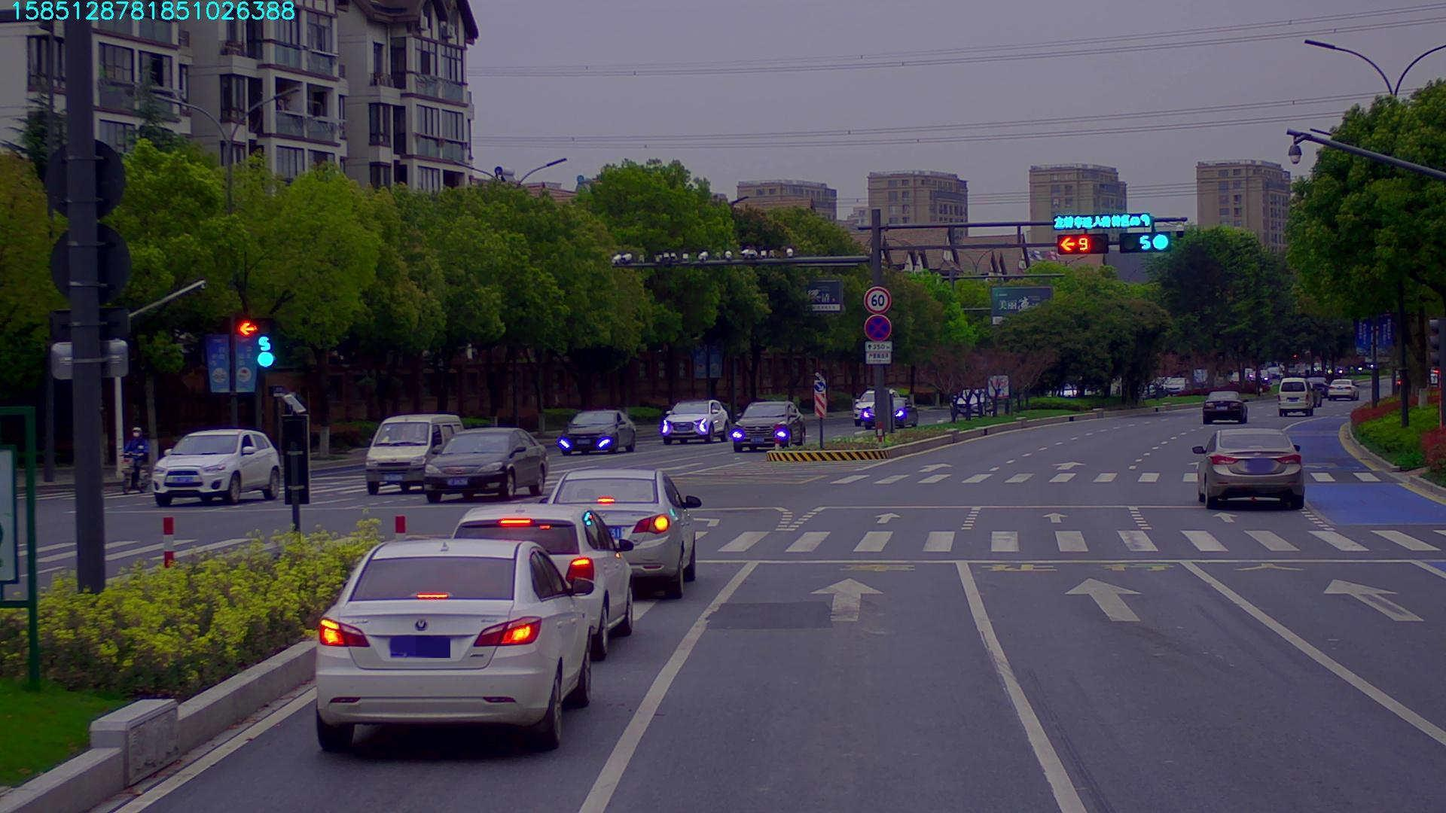green: (1116, 235, 1164, 253)
red: (1061, 237, 1106, 252)
wait_on: (1052, 213, 1152, 229)
